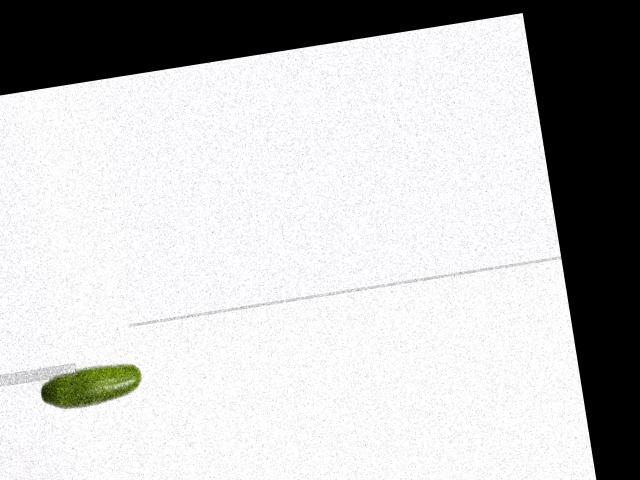cucumber: (36, 358, 145, 414)
